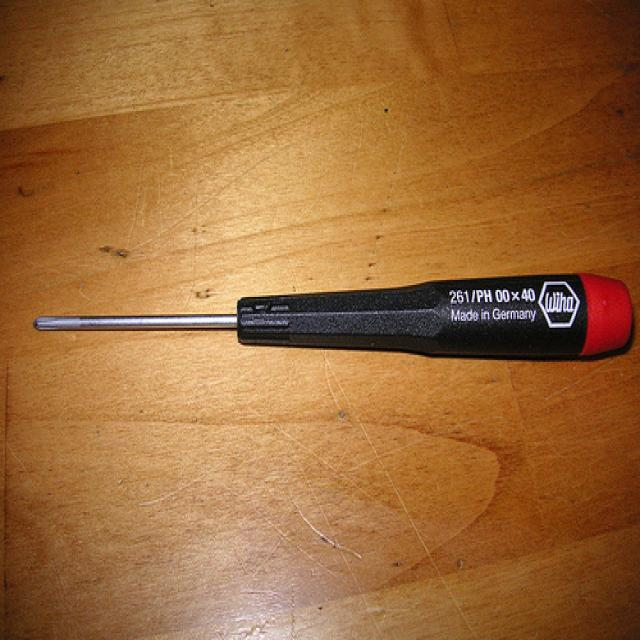screw driver: (0, 231, 640, 419)
